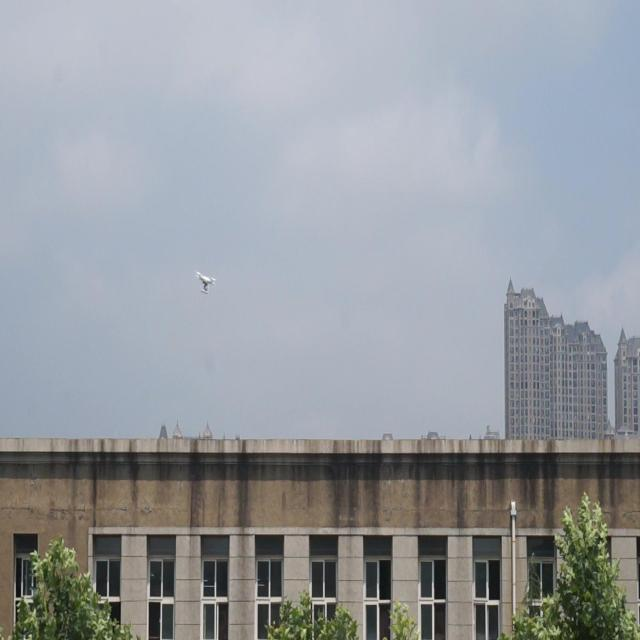drone: (194, 268, 218, 299)
